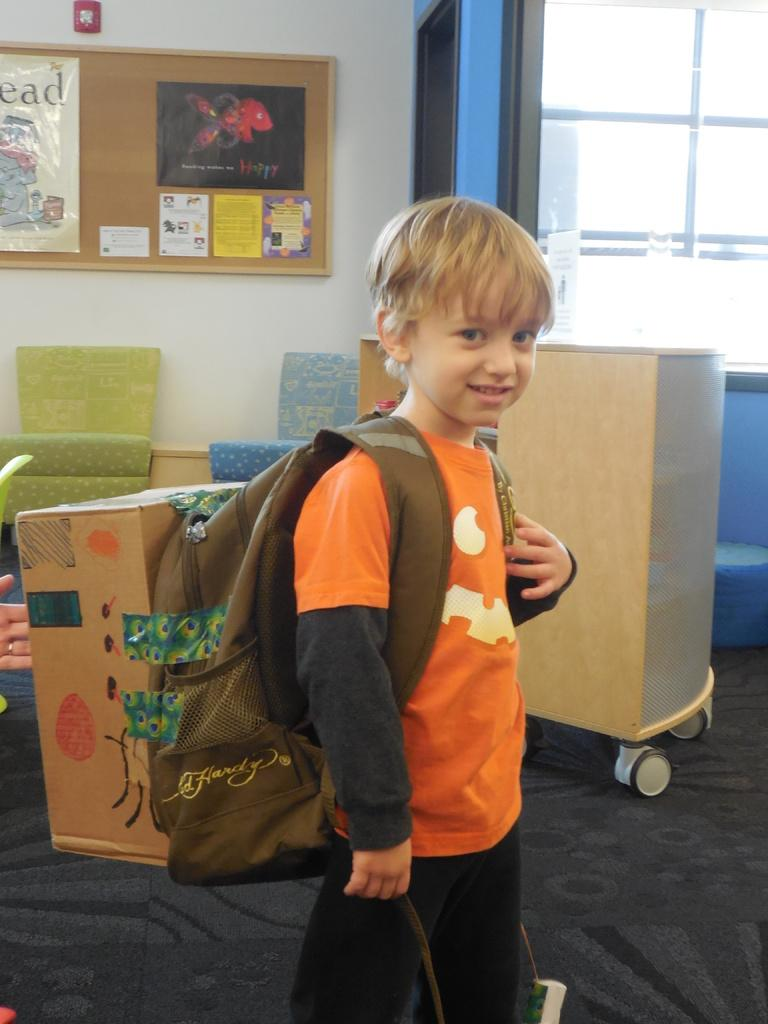Luggage-and-bags: (10, 403, 519, 895)
